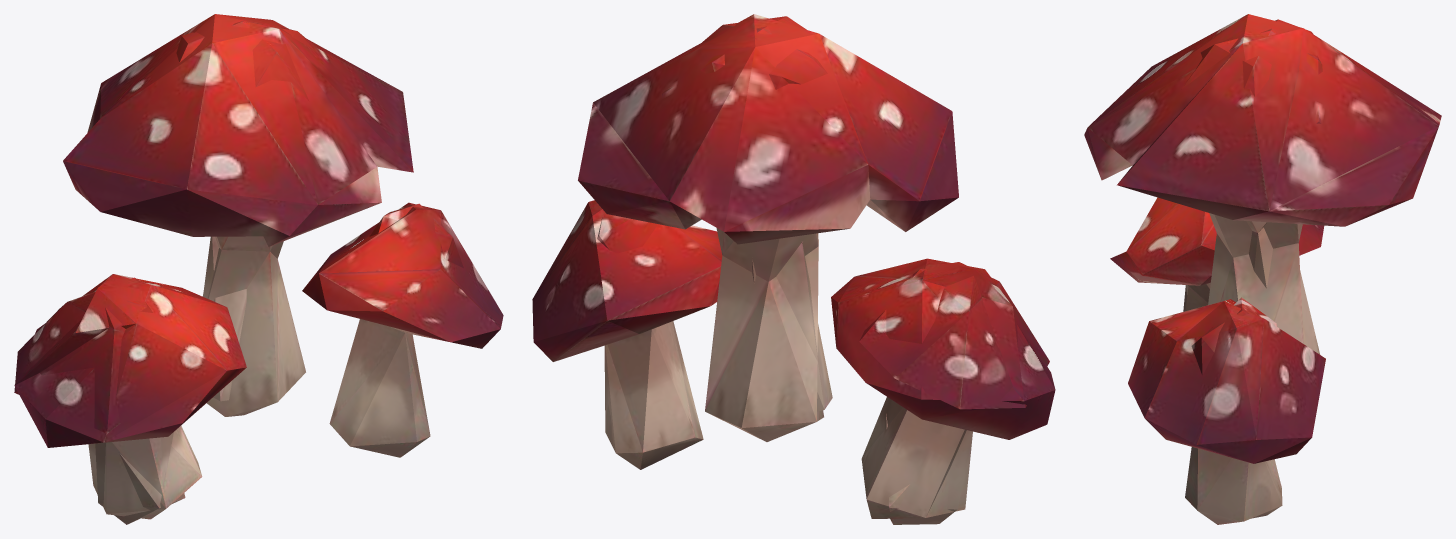
File: v-amanites-semis.glb
3 views of the same model, side by side, from view 1: azimuth 30°, elevation 25°; view 2: azimuth 150°, elevation 25°; view 3: azimuth 270°, elevation 25° (orthographic). The views are drawn at different scales.
Visible parts, largest first — view 1: v-amanites-semis; view 2: v-amanites-semis; view 3: v-amanites-semis.
Part boxes in pixels (<box>): v-amanites-semis: <box>14,14,503,524</box>; v-amanites-semis: <box>532,14,1055,524</box>; v-amanites-semis: <box>1084,14,1441,524</box>.
Bounding box in the file's own units: 1.99 × 1.86 × 1.39.
Materials: 1 (1 with a texture image).
